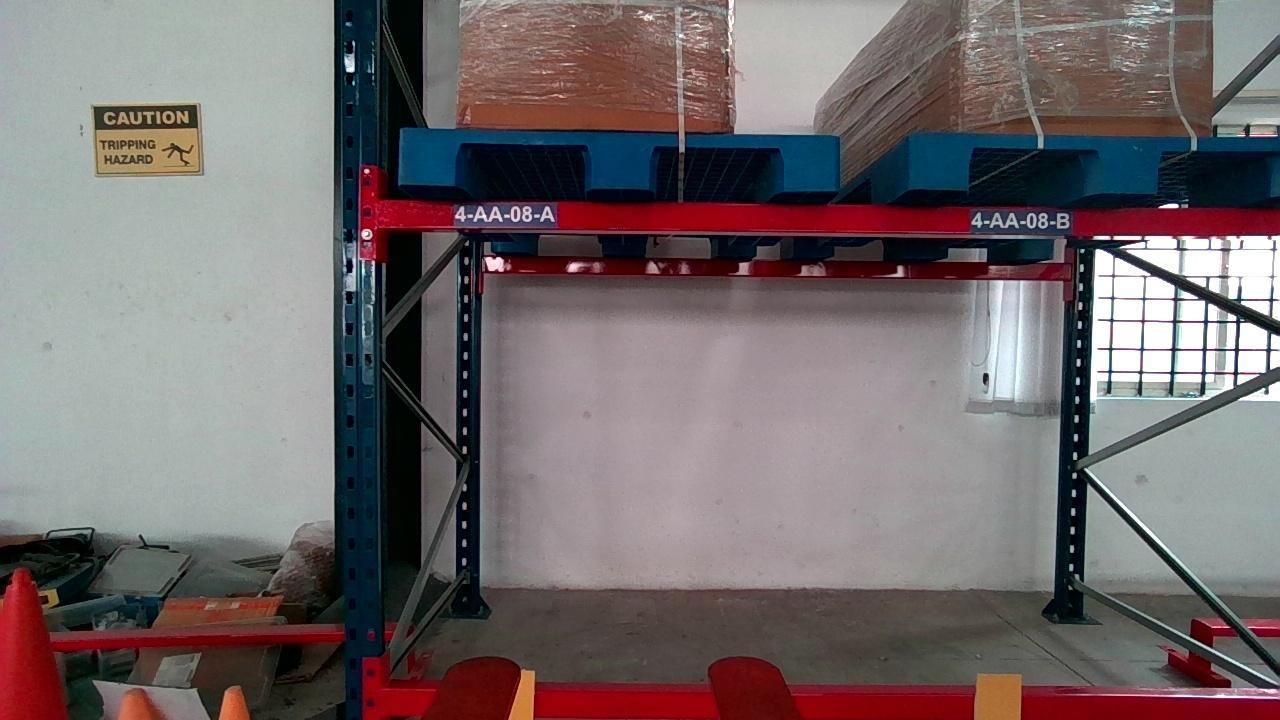h_rack: (381, 197, 1277, 233), (386, 688, 1280, 720)
small_pallet: (398, 129, 839, 192), (912, 136, 1280, 197)
